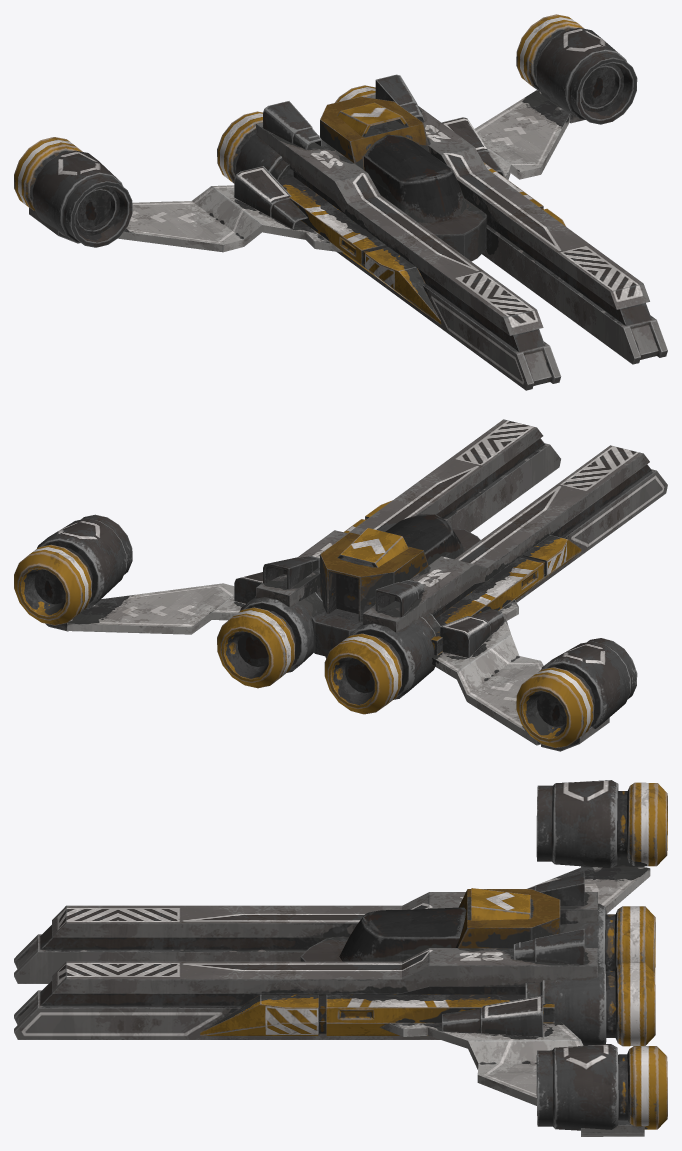
The model's file is Executioner.gltf.
3 views of the same model, one above another, from view 1: azimuth 30°, elevation 25°; view 2: azimuth 150°, elevation 25°; view 3: azimuth 270°, elevation 25° (orthographic). The views are drawn at different scales.
Parts seen in each view (by area): view 1: Executioner; view 2: Executioner; view 3: Executioner.
Boxes of the visible parts, <box> form: Executioner: <box>14,14,667,390</box>; Executioner: <box>14,419,667,751</box>; Executioner: <box>14,780,667,1136</box>.
Size of the model in its own units: 10.02 by 1.85 by 9.2.
1 material, 1 textured.
